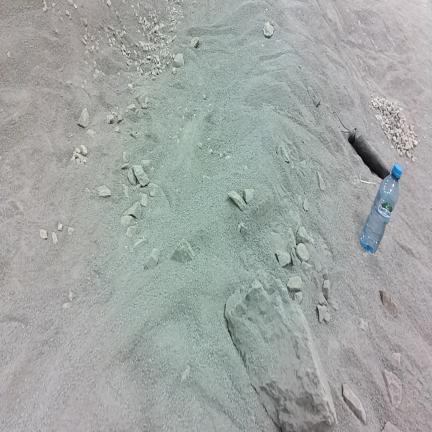Rock: (225, 272, 336, 431), (343, 384, 366, 424), (383, 370, 401, 408), (253, 191, 273, 220), (171, 240, 194, 262), (380, 290, 398, 317), (228, 191, 246, 210), (133, 165, 149, 186), (271, 232, 287, 253), (296, 227, 314, 244), (124, 202, 141, 219), (78, 108, 89, 133), (308, 86, 320, 108), (146, 249, 159, 268), (287, 276, 302, 292), (296, 243, 309, 261), (277, 145, 290, 162), (286, 228, 296, 249), (317, 305, 329, 322), (301, 261, 312, 279), (277, 252, 291, 266), (135, 91, 147, 106), (322, 279, 330, 300), (382, 422, 400, 431), (294, 213, 302, 233), (263, 22, 273, 38), (98, 185, 111, 197), (121, 215, 134, 227), (317, 292, 328, 306), (243, 189, 254, 203), (181, 365, 190, 382), (317, 172, 325, 190), (290, 247, 298, 265), (128, 169, 137, 185), (173, 54, 184, 67), (126, 225, 136, 239), (392, 353, 401, 367), (312, 275, 321, 289), (148, 183, 157, 196), (133, 239, 147, 247), (329, 300, 339, 311), (141, 160, 151, 171), (359, 319, 368, 330), (294, 292, 302, 304), (40, 229, 48, 240), (191, 37, 199, 48), (314, 259, 321, 271), (240, 223, 247, 235), (87, 129, 96, 138), (81, 145, 88, 156), (127, 104, 136, 112), (52, 232, 58, 244), (141, 194, 147, 206), (403, 140, 410, 150), (124, 185, 129, 198), (130, 131, 139, 138), (106, 115, 113, 124), (123, 152, 129, 162), (303, 199, 308, 211), (117, 114, 123, 124), (323, 269, 328, 280), (85, 188, 91, 197), (69, 291, 74, 301), (62, 302, 70, 308), (121, 163, 129, 169), (58, 222, 63, 231), (68, 227, 74, 234), (299, 160, 306, 166), (82, 18, 87, 26), (197, 142, 202, 149), (65, 10, 70, 16), (128, 83, 133, 89), (115, 126, 120, 132), (67, 80, 72, 86), (76, 159, 81, 165), (396, 122, 401, 128), (107, 0, 111, 7), (172, 68, 176, 74), (387, 104, 391, 110), (385, 117, 389, 123), (76, 148, 80, 153), (74, 4, 77, 9), (410, 126, 413, 130)
